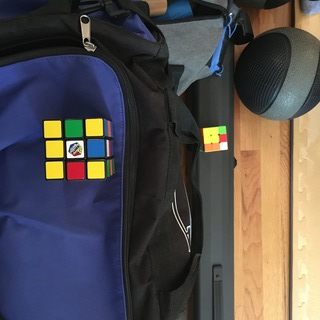face: (43, 119, 105, 180), (202, 125, 229, 151)
